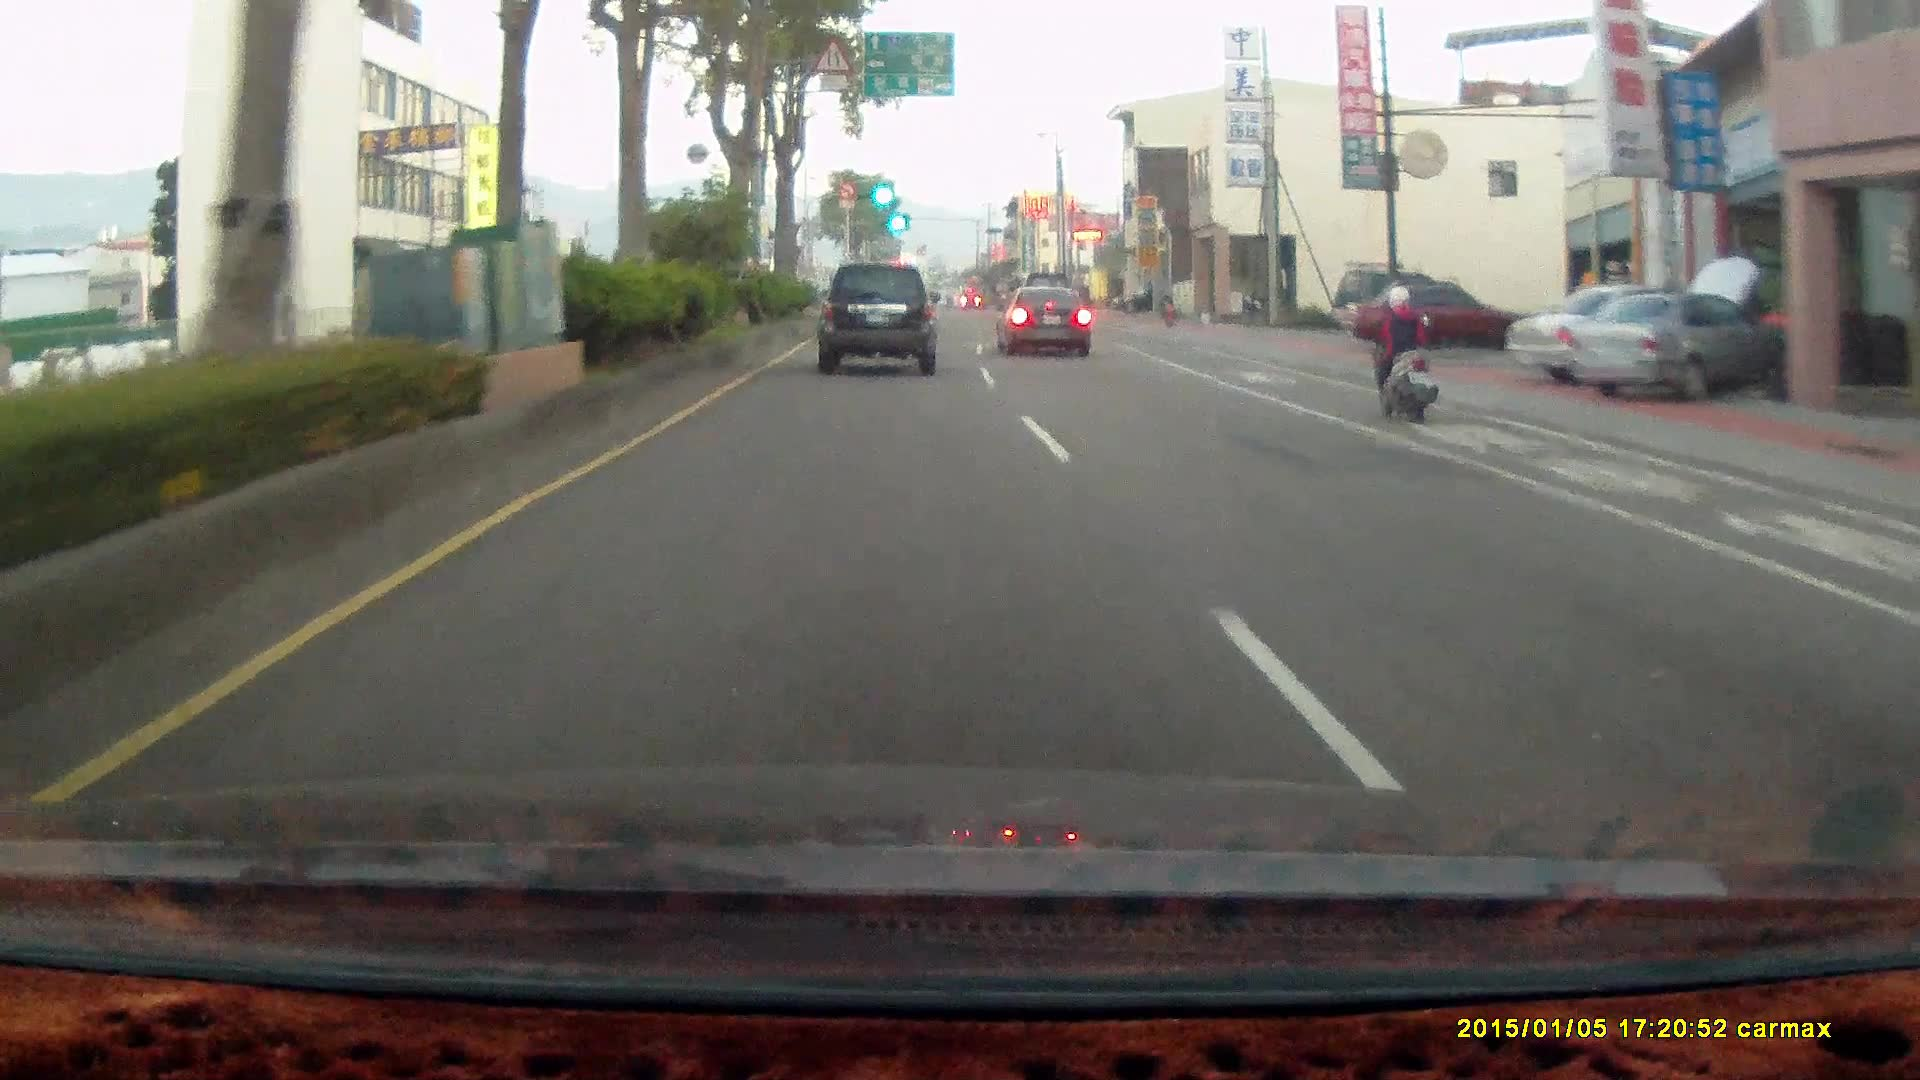rider: (1354, 271, 1450, 437), (1366, 280, 1438, 418)
vehicle: (1506, 291, 1735, 392), (1573, 293, 1784, 398), (1574, 293, 1785, 398), (813, 273, 943, 389), (816, 261, 940, 375), (1347, 281, 1532, 352), (1347, 282, 1532, 354), (1329, 270, 1456, 336), (996, 291, 1094, 364), (995, 284, 1091, 358), (1111, 287, 1171, 313)
